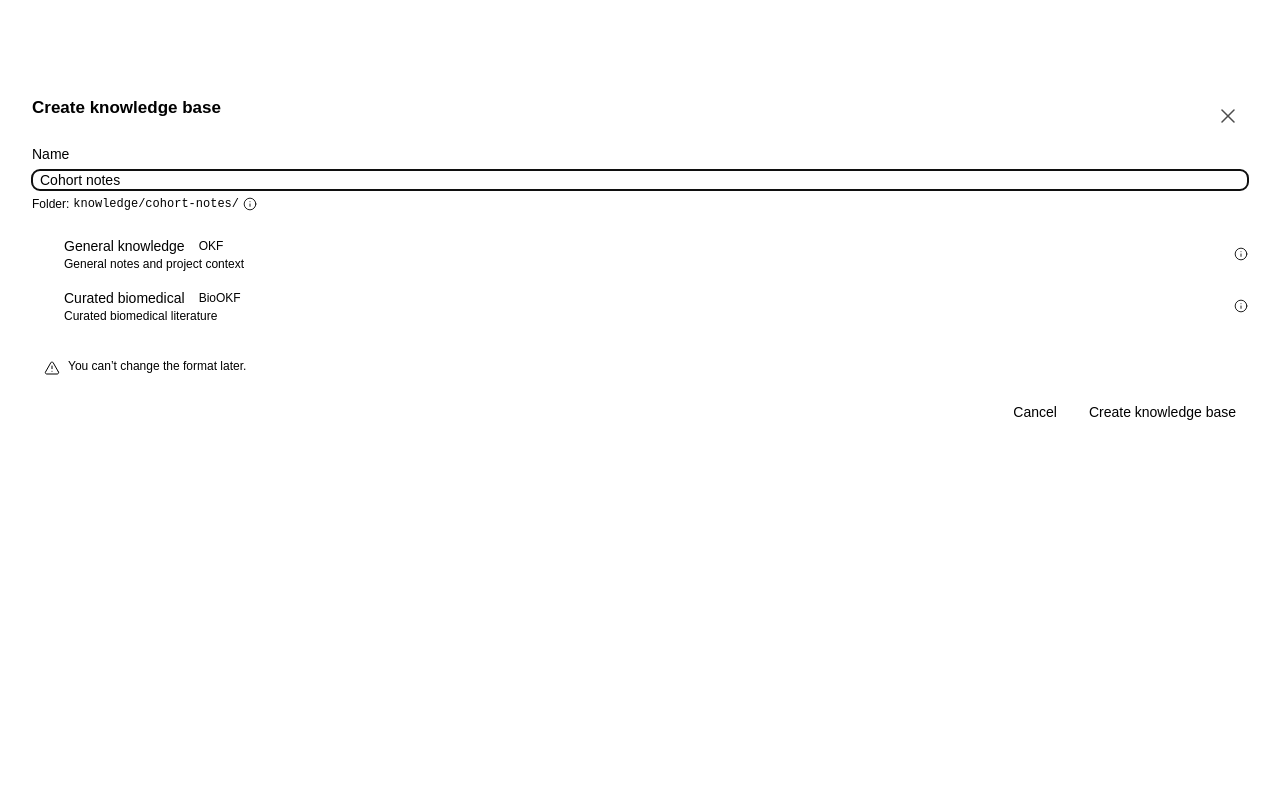
Scenario: KbFormatChooser, a name that cannot be used › keeps a failure the daemon reports off the field, as a danger note at the foot
This screenshot has width=1280, height=800.
Click the button with test id "knowledge-format-submit" at (1162, 412), box [1077,402,1248,422]
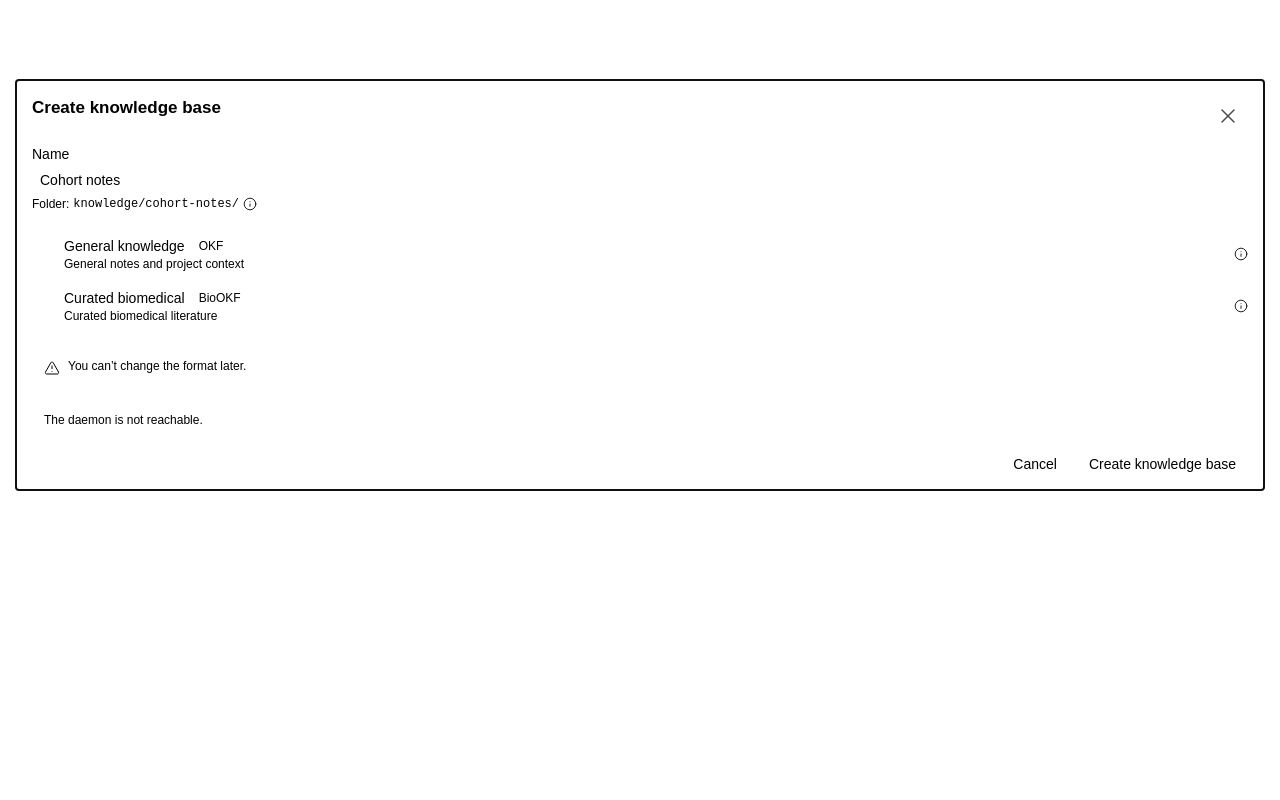
Expected: the message reads "The daemon is not reachable.", [44,413,203,427]
